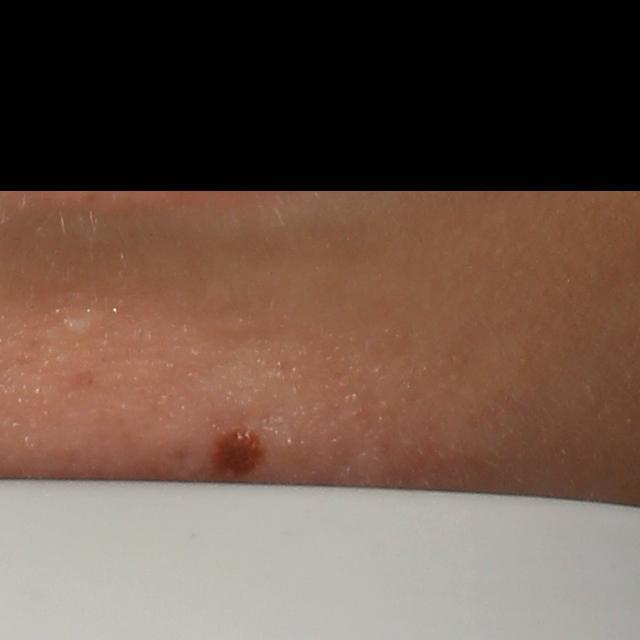hypertrophic_scar: (53, 315, 106, 340)
nevus: (216, 430, 264, 473)
